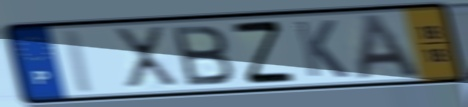A: (354, 11, 424, 82)
B: (169, 23, 237, 88)
I: (60, 27, 98, 96)
K: (291, 18, 352, 80)
X: (111, 24, 182, 90)
Z: (229, 18, 298, 87)
